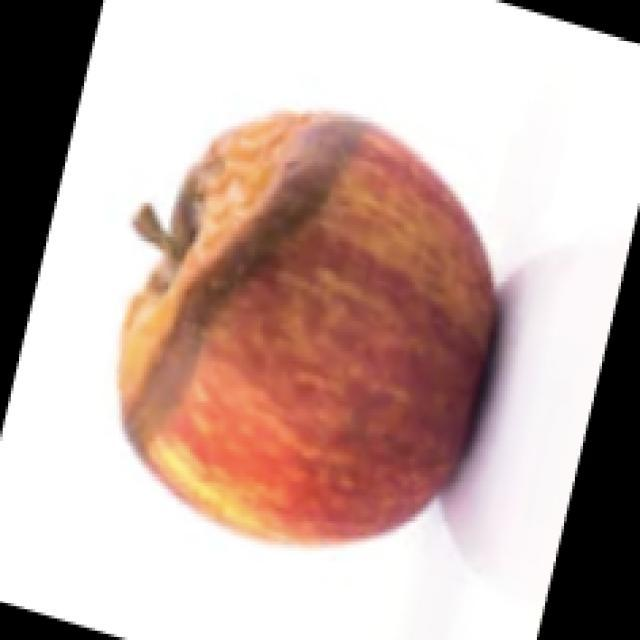Rotten: (124, 122, 498, 548)
